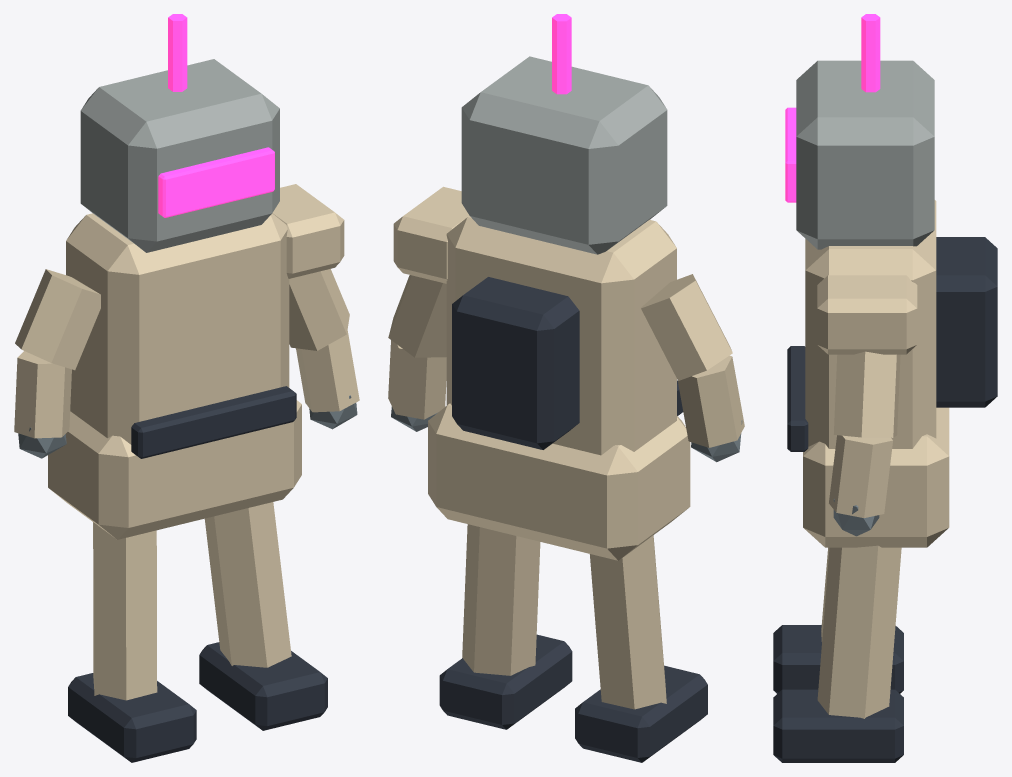
File: npcs_024_seed11.glb
3 views of the same model, side by side, from view 1: azimuth 30°, elevation 25°; view 2: azimuth 150°, elevation 25°; view 3: azimuth 270°, elevation 25° (orthographic). The views are drawn at different scales.
Parts seen in each view (by area): view 1: npcs_024_seed11; view 2: npcs_024_seed11; view 3: npcs_024_seed11.
Boxes of the visible parts, <box> form: npcs_024_seed11: <box>14,14,359,762</box>; npcs_024_seed11: <box>388,14,744,762</box>; npcs_024_seed11: <box>773,14,997,762</box>.
Bounding box in the file's own units: 1.1 × 2.15 × 0.6279.
